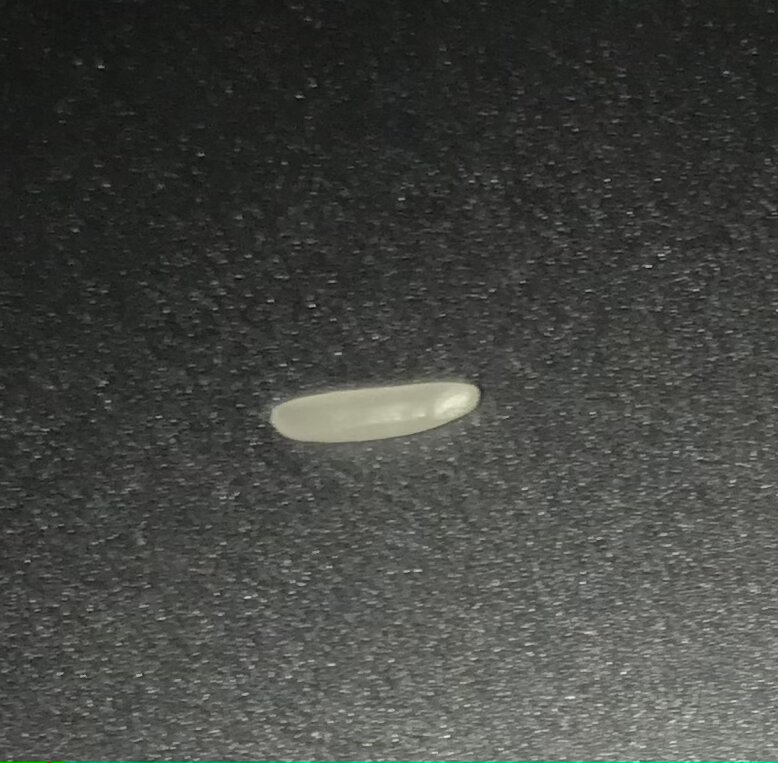Gao Long Lai: (266, 381, 491, 458)
